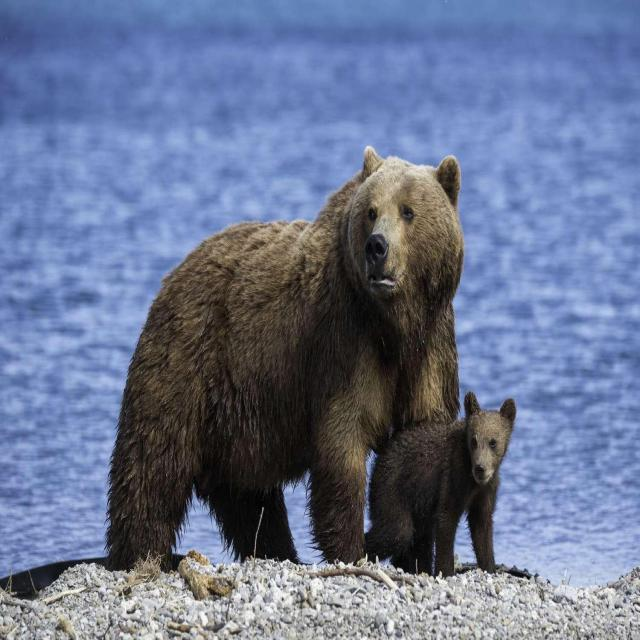Bear: (104, 148, 465, 574), (363, 389, 514, 579)
